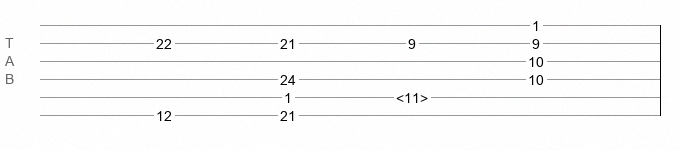1: (284, 90, 292, 100), (532, 18, 540, 28)
10: (528, 72, 544, 82), (528, 54, 544, 64)
12: (156, 108, 172, 118)
21: (280, 108, 296, 118), (280, 36, 296, 46)
22: (156, 36, 172, 46)
24: (280, 72, 296, 82)
9: (408, 36, 416, 46), (532, 36, 540, 46)
harmonic: (396, 90, 428, 100)
